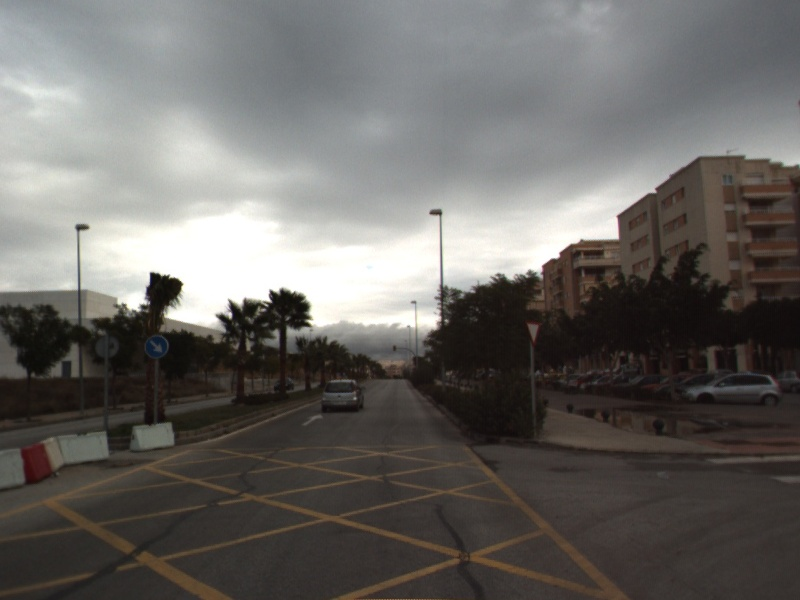STRAIGHT: (299, 412, 326, 428)
